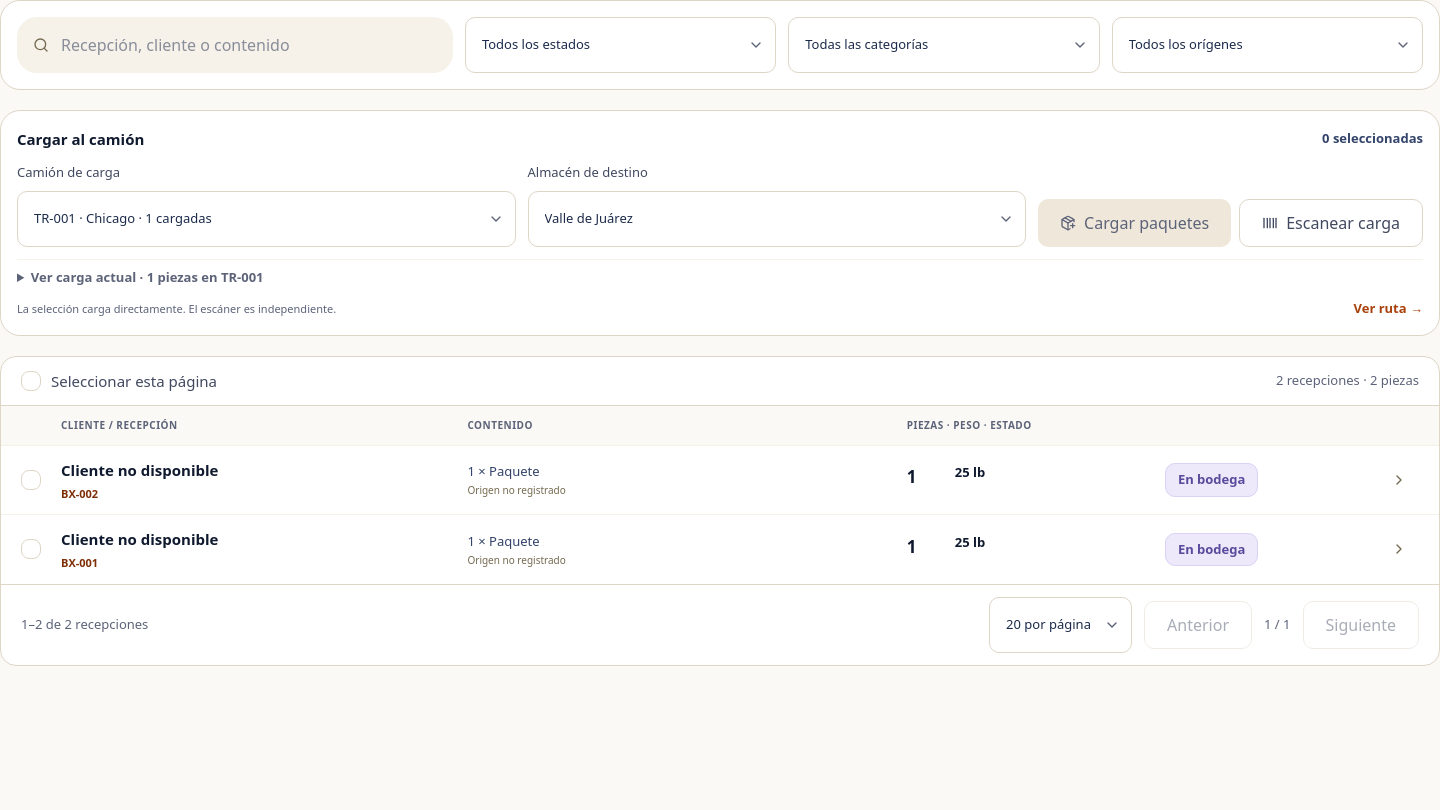
opens loading directly in Bodega without requiring a selection
Click the button "Escanear carga".
click(1331, 222)  # box [1239,198,1423,246]
(page scrolled)
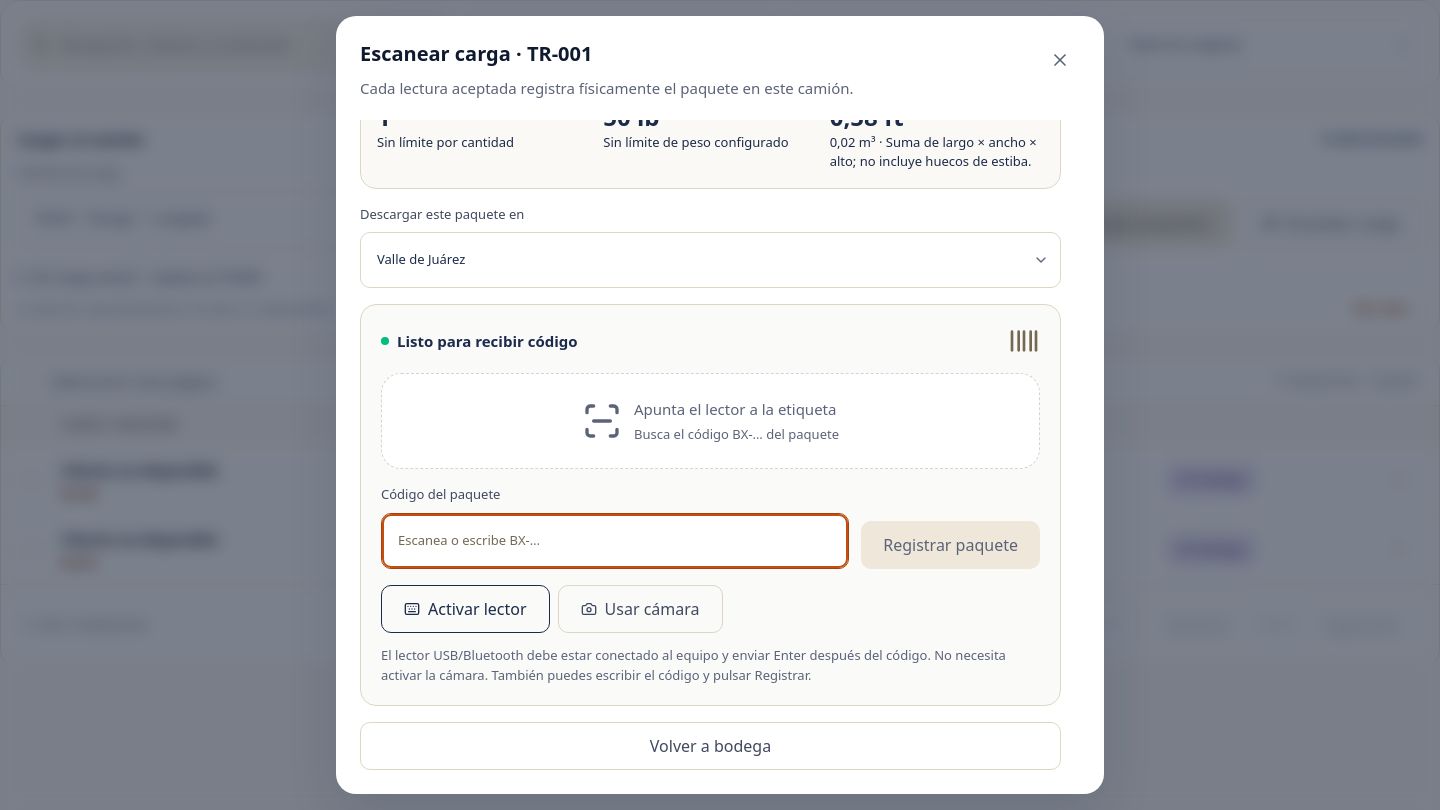
Check: the dialog shows "TR-001", box [360,40,592,67]
Check: the dialog shows "50 lb", box [336,16,1104,794]
Click the button "Volver a bodega".
click(710, 746)  # box [360,722,1061,770]
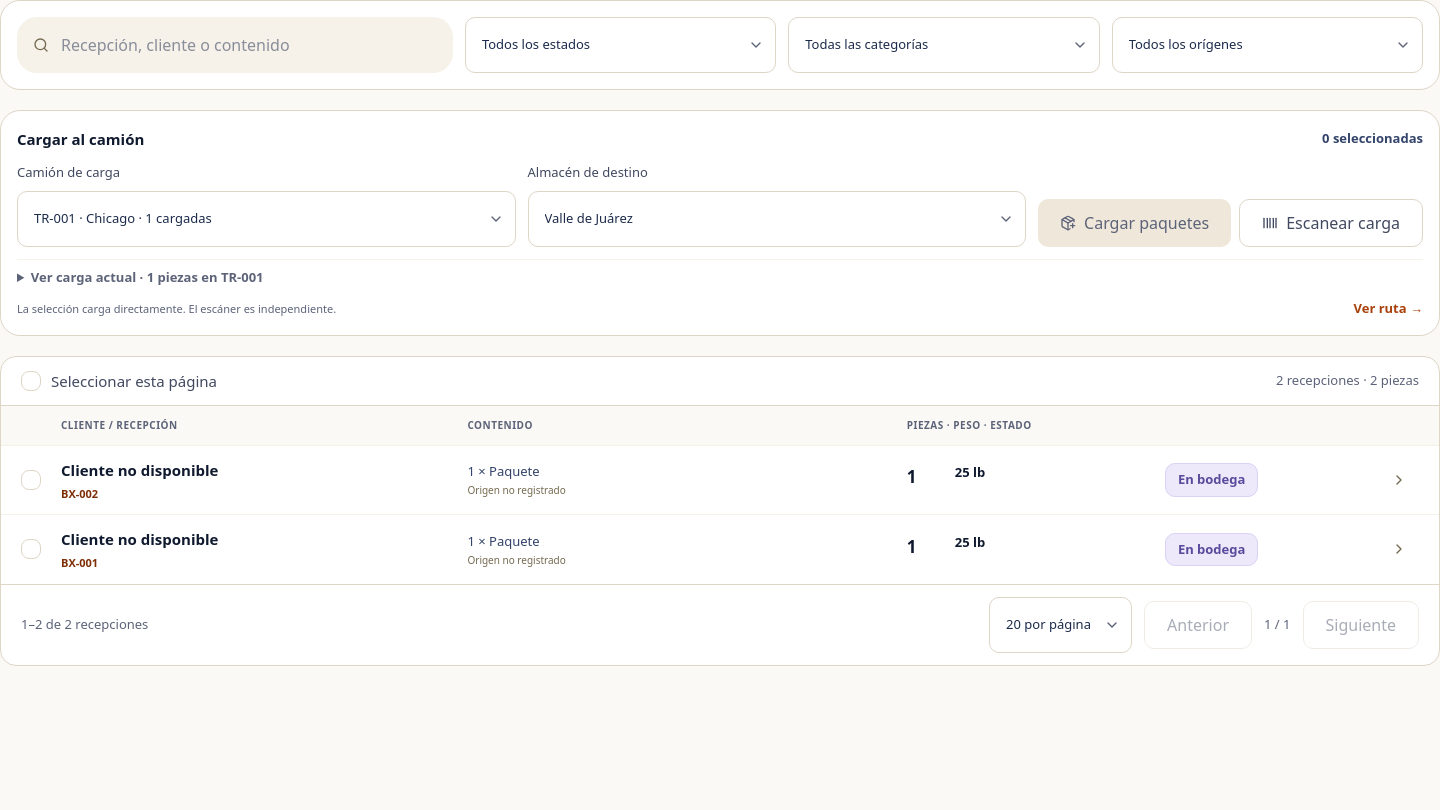
Check: the dialog is gone
